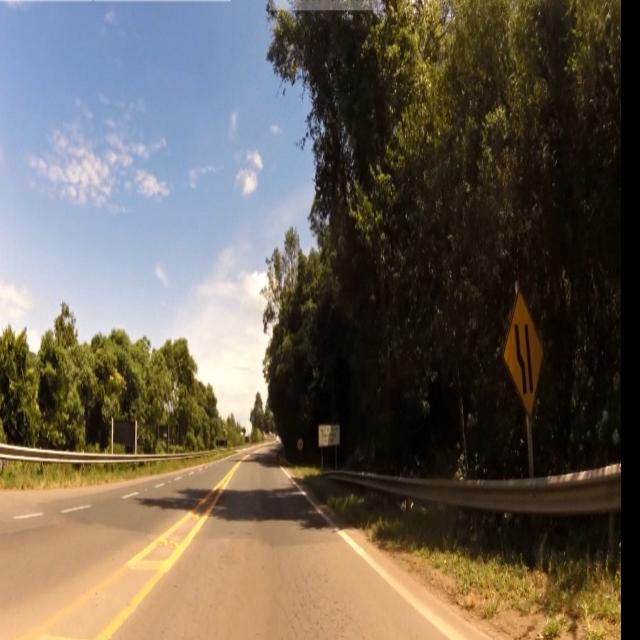A-21d: (504, 294, 550, 420)
